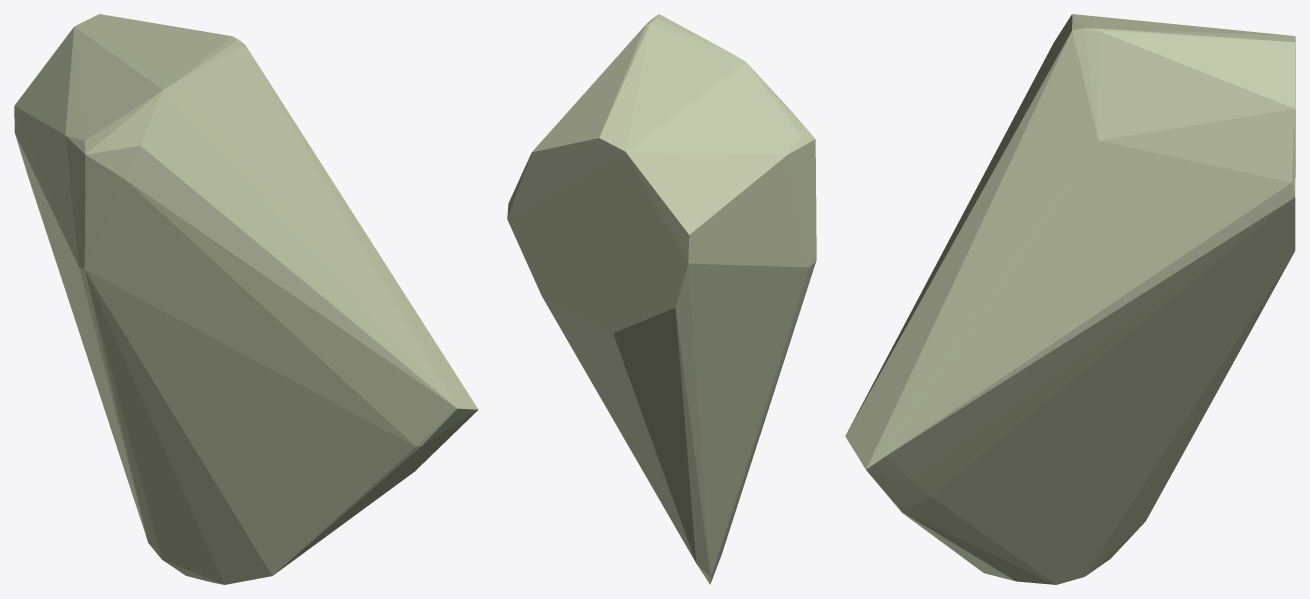
The model's file is engineComponent_water_pump_b01.glb.
The picture shows the model from 3 angles, left to right: view 1: azimuth 30°, elevation 25°; view 2: azimuth 150°, elevation 25°; view 3: azimuth 270°, elevation 25°; orthographic projection. The views are drawn at different scales.
Parts seen in each view (by area): view 1: geometry_0; view 2: geometry_0; view 3: geometry_0.
Part boxes in pixels (x1,y1,x2,y2): geometry_0: (14, 14, 478, 584); geometry_0: (507, 14, 816, 584); geometry_0: (845, 14, 1295, 584).
Size of the model in its own units: 0.2814 by 0.4777 by 0.3382.
